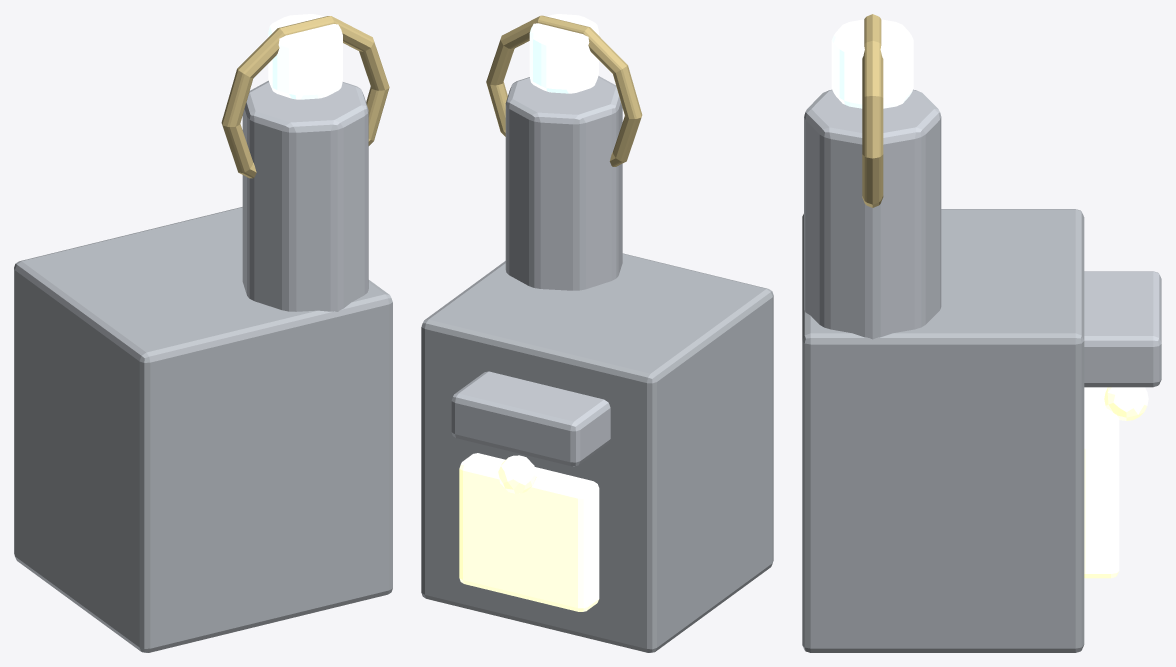
Rendered from turret_furnace.glb.
3 renders of one model, left to right at view 1: azimuth 30°, elevation 25°; view 2: azimuth 150°, elevation 25°; view 3: azimuth 270°, elevation 25°, orthographic. The views are drawn at different scales.
Visible parts, largest first — view 1: turret_furnace; view 2: turret_furnace; view 3: turret_furnace.
Boxes of the visible parts, x1,y1,x2,y2 form: turret_furnace: [14, 14, 392, 652]; turret_furnace: [421, 14, 773, 652]; turret_furnace: [802, 14, 1161, 652].
Bounding box in the file's own units: 0.4849 × 0.9378 × 0.51.
